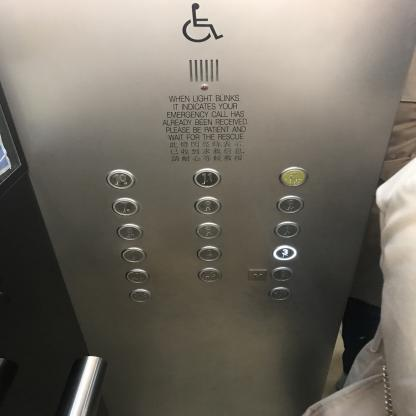1: (121, 247, 146, 262)
10: (106, 168, 135, 190)
11: (192, 167, 222, 188)
2: (196, 245, 221, 262)
3: (272, 244, 297, 260)
4: (116, 223, 144, 241)
5: (195, 222, 221, 239)
6: (273, 221, 300, 238)
7: (112, 197, 140, 216)
8: (193, 196, 221, 215)
9: (276, 195, 304, 214)
G: (269, 266, 295, 282)
LG: (197, 268, 222, 282)
LG1: (124, 268, 149, 284)
alarm: (278, 166, 308, 187)
close: (129, 288, 152, 303)
open: (268, 286, 291, 301)
s: (246, 268, 268, 282)
